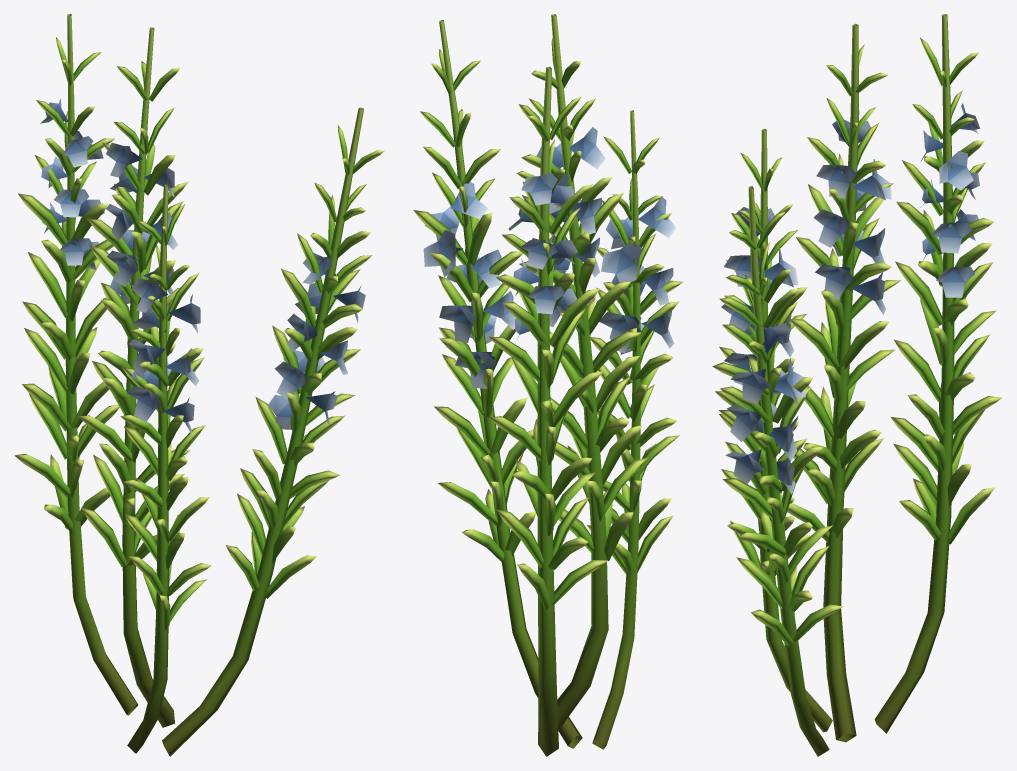
File: SM_Rosemary_01.fbx
3 renders of one model, left to right at view 1: azimuth 30°, elevation 25°; view 2: azimuth 150°, elevation 25°; view 3: azimuth 270°, elevation 25°, orthographic. The views are drawn at different scales.
Parts seen in each view (by area): view 1: SM_Rosemary_01; view 2: SM_Rosemary_01; view 3: SM_Rosemary_01.
Part boxes in pixels (box(x1,y1,x2,y2)): SM_Rosemary_01: box(14, 14, 384, 756); SM_Rosemary_01: box(413, 14, 683, 756); SM_Rosemary_01: box(712, 14, 1002, 756).
Bounding box in the file's own units: 2.1 × 5.57 × 2.
